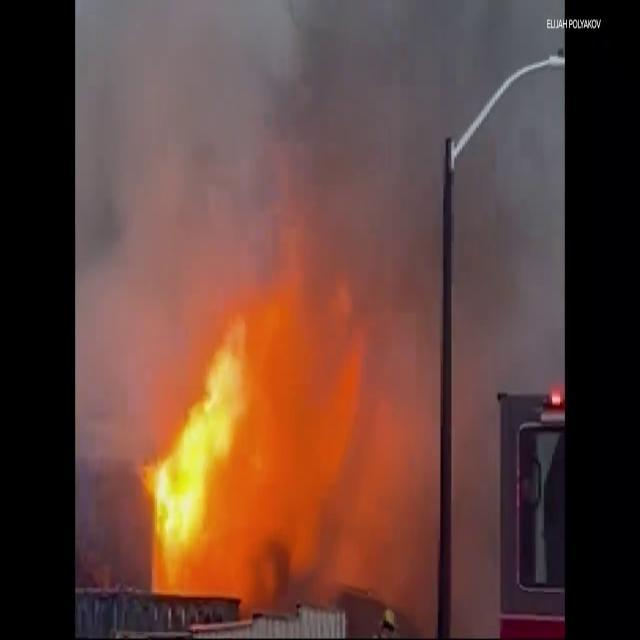Fire: (132, 286, 306, 596)
Smoke: (78, 0, 546, 308)
